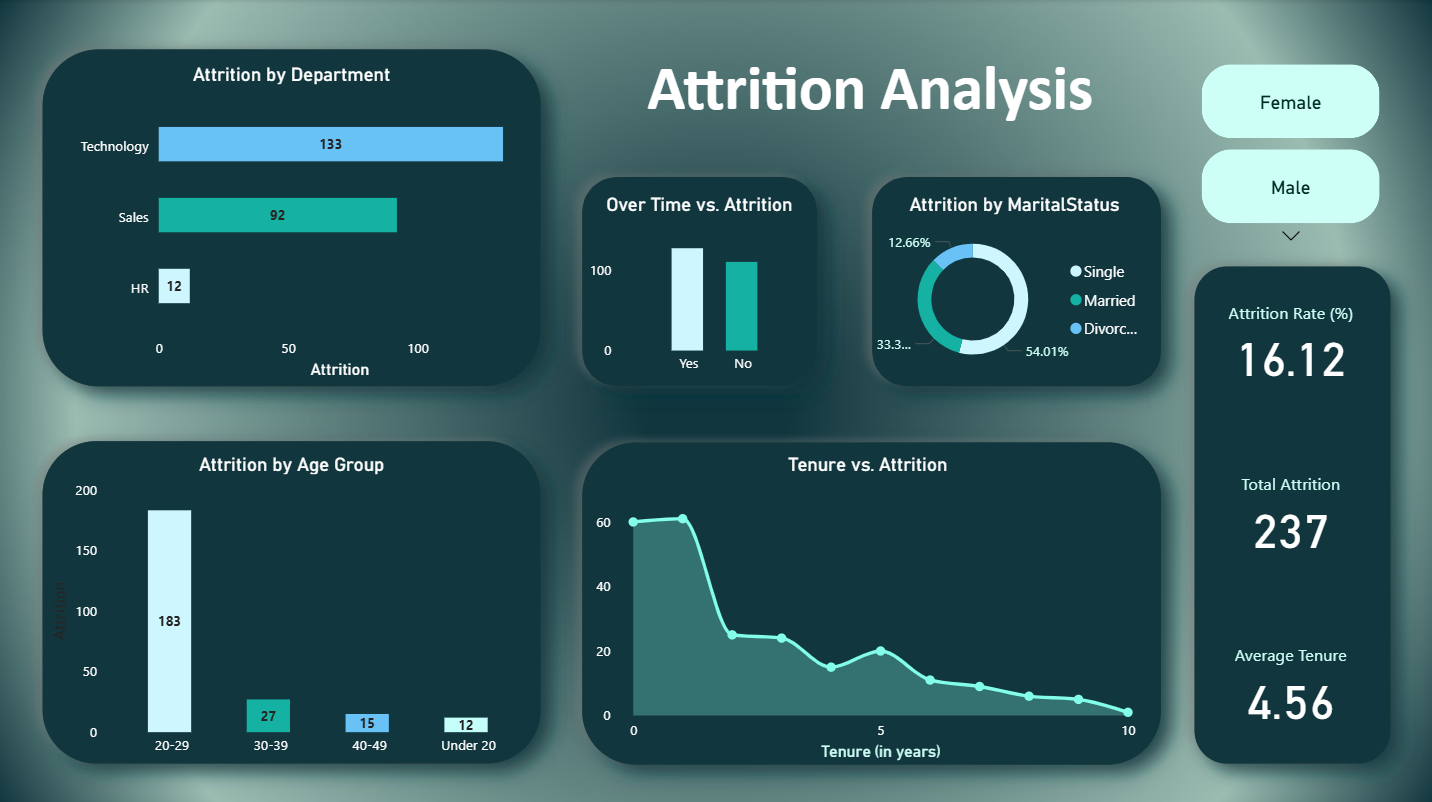

The page's visual inventory and layout, read from the dashboard file:
{"tool":"powerbi","page":{"name":"Attrition","canvas":[1280,720],"ordinal":1},"visuals":[{"type":"barChart","title":"Attrition by Department","fields":{"Category":["Employee.Department"],"Y":["Employee.Total Attrition"],"Series":["Employee.Department"]},"box":[40.2,56.6,440.6,287.3],"z":5000},{"type":"columnChart","title":"Attrition by Age Group","fields":{"Y":["Employee.Total Attrition"],"Category":["Employee.Age Group"],"Series":["Employee.Age Group"]},"box":[40.2,404.8,440.6,279.8],"z":6000},{"type":"columnChart","title":"Over Time vs. Attrition","fields":{"Category":["Employee.OverTime"],"Y":["Employee.Total Attrition"],"Series":["Employee.OverTime"]},"box":[520.9,172.7,206.9,171.2],"z":7000},{"type":"donutChart","title":"Attrition by MaritalStatus","fields":{"Y":["Employee.Total Attrition"],"Category":["Employee.MaritalStatus"]},"box":[778.4,172.7,256,171.2],"z":8000},{"type":"areaChart","title":"Tenure vs. Attrition","fields":{"Category":["Employee.YearsAtCompany"],"Y":["Employee.Total Attrition"]},"box":[532.5,405,490,280],"z":9000},{"type":"cardVisual","fields":{"Data":["Employee.Attrition Rate (%)"]},"box":[1069,238.3,169.9,140.4],"z":11000},{"type":"cardVisual","fields":{"Data":["Employee.Total Attrition"]},"box":[1069,391.2,169.9,140.4],"z":12000},{"type":"cardVisual","fields":{"Data":["Avg(Employee.YearsAtCompany)"]},"box":[1069,544,169.9,140.4],"z":13000},{"type":"textbox","box":[520,40,513.8,91.2],"z":14000},{"type":"advancedSlicerVisual","fields":{"Values":["Employee.Gender"]},"box":[1069,34,169.9,194],"z":15000}]}

Visuals, with their boxes in screenshot pixels (x1, y1, x2, y2), scaled from the page's 1280x720 canvas onto the 1432x802 screenshot:
"Attrition by Department" barChart: detection(45, 63, 538, 383)
"Attrition by Age Group" columnChart: detection(45, 451, 538, 763)
"Over Time vs. Attrition" columnChart: detection(583, 192, 814, 383)
"Attrition by MaritalStatus" donutChart: detection(871, 192, 1157, 383)
"Tenure vs. Attrition" areaChart: detection(596, 451, 1144, 763)
cardVisual - Employee.Attrition Rate (%): detection(1196, 265, 1386, 422)
cardVisual - Employee.Total Attrition: detection(1196, 436, 1386, 592)
cardVisual - Avg(Employee.YearsAtCompany): detection(1196, 606, 1386, 762)
textbox: detection(582, 45, 1157, 146)
advancedSlicerVisual - Employee.Gender: detection(1196, 38, 1386, 254)
